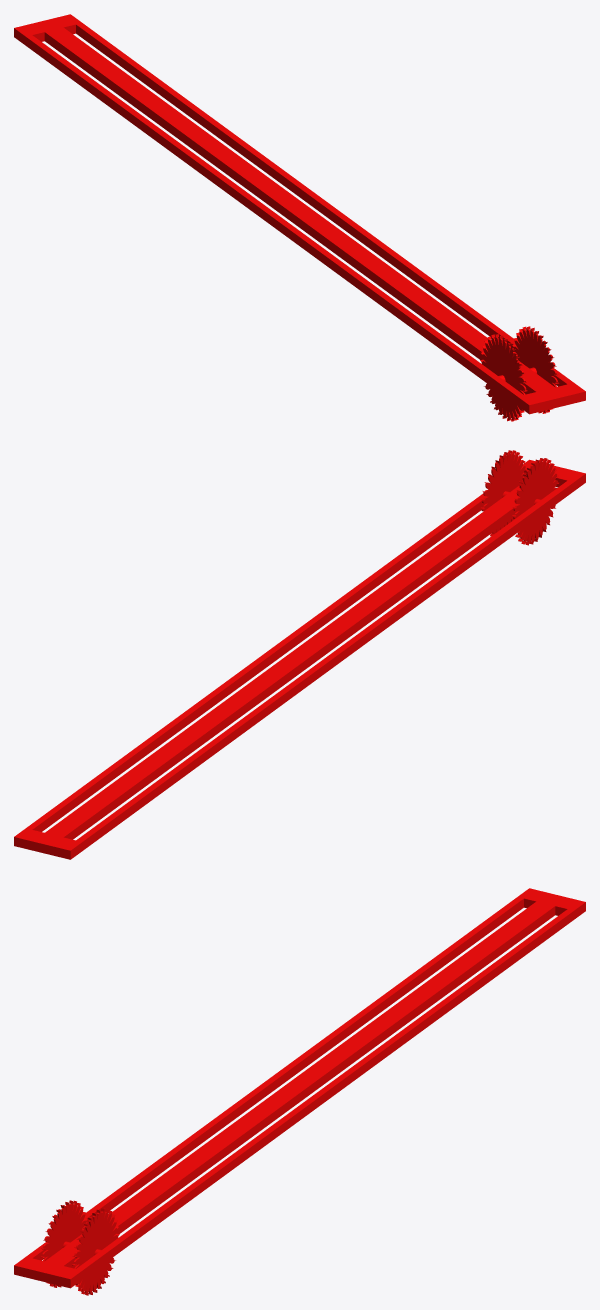
File: FloorSaw.FBX
3 views of the same model, one above another, from view 1: azimuth 30°, elevation 25°; view 2: azimuth 150°, elevation 25°; view 3: azimuth 330°, elevation 25° (orthographic).
Parts seen in each view (by area): view 1: Base, Sierra(filo), Sierra(filo)002; view 2: Base, Sierra(filo), Sierra(filo)002; view 3: Base, Sierra(filo)002, Sierra(filo).
Part boxes in pixels (x1,y1,x2,y2): Base: [14, 14, 585, 414]; Sierra(filo): [480, 334, 527, 421]; Sierra(filo)002: [512, 326, 559, 413]; Base: [14, 459, 585, 859]; Sierra(filo): [512, 458, 558, 545]; Sierra(filo)002: [480, 450, 526, 536]; Base: [14, 888, 585, 1288]; Sierra(filo)002: [72, 1208, 119, 1295]; Sierra(filo): [40, 1200, 87, 1287].
Size of the model in its own units: 4.81 by 6.54 by 75.78.
